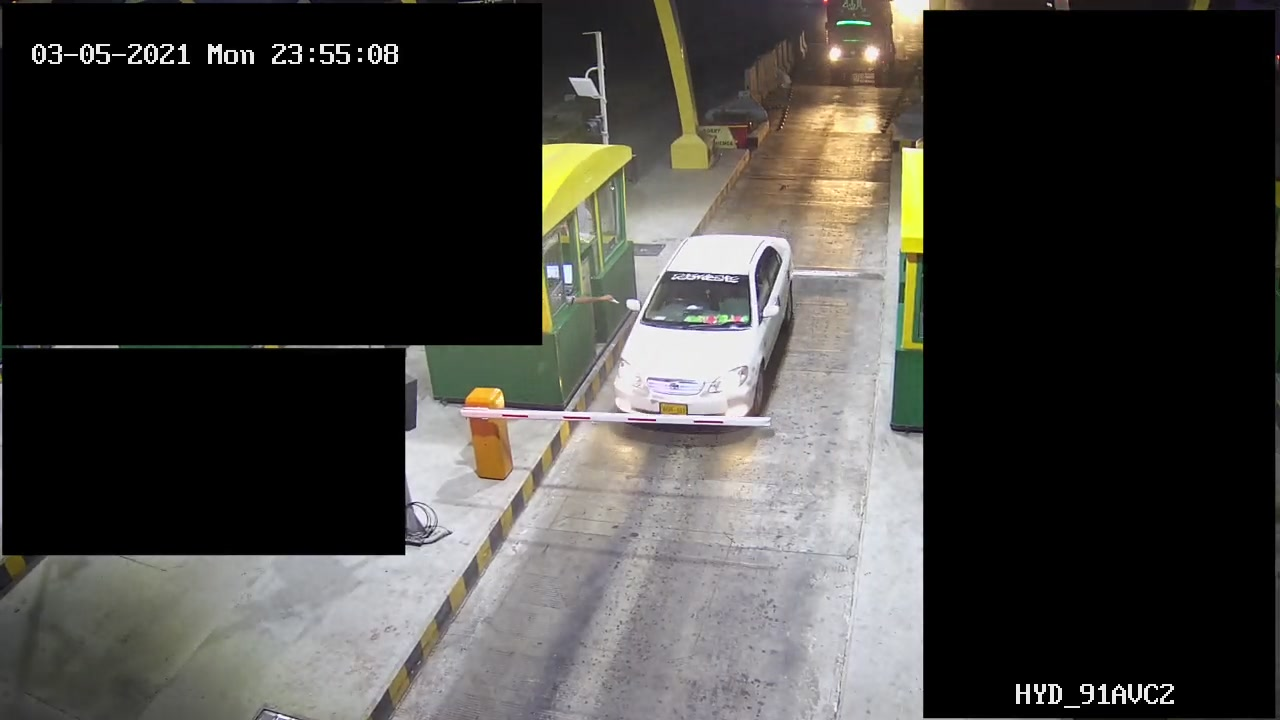F1: (613, 221, 807, 431)
